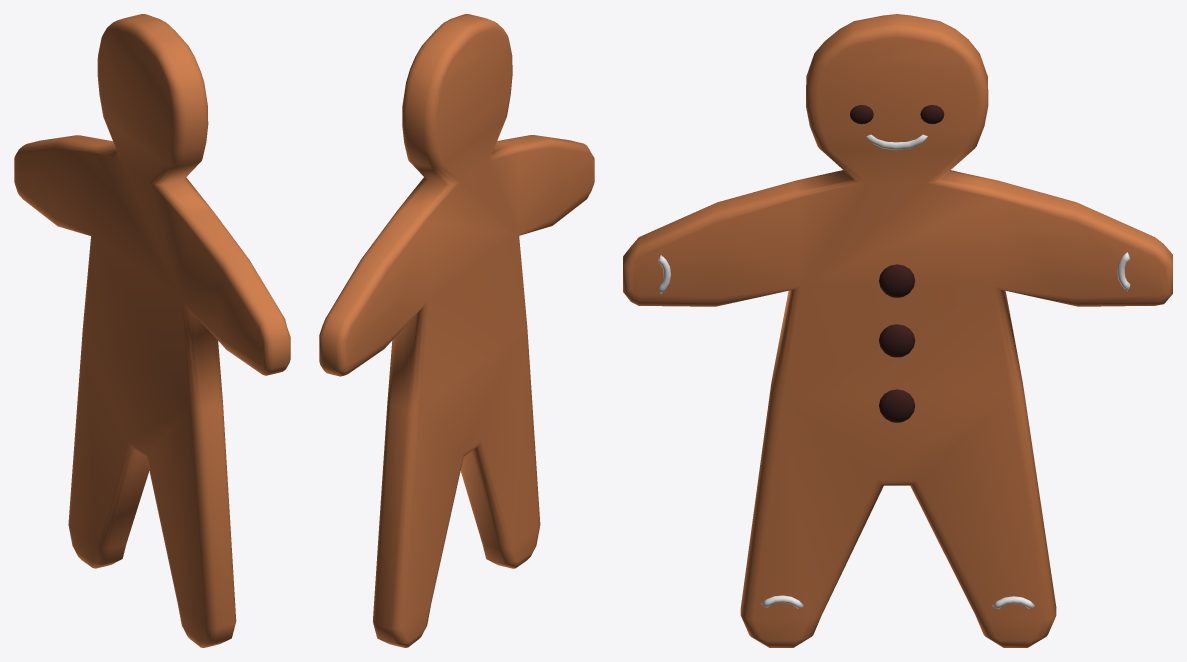
Rendered from cookis.fbx.
3 views of the same model, side by side, from view 1: azimuth 30°, elevation 25°; view 2: azimuth 150°, elevation 25°; view 3: azimuth 270°, elevation 25° (orthographic). The views are drawn at different scales.
Parts seen in each view (by area): view 1: cookie; view 2: cookie; view 3: cookie.
Part boxes in pixels (box(x1,y1,x2,y2)): cookie: box(14, 14, 290, 647); cookie: box(319, 14, 594, 647); cookie: box(623, 14, 1172, 647).
Size of the model in its own units: 0.0108 by 0.1466 by 0.1171.
